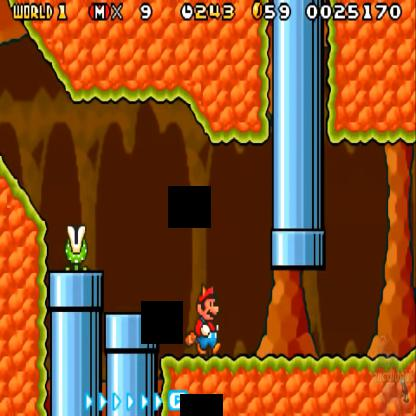Mario: (194, 277, 218, 360)
planta carnivora: (64, 221, 87, 274)
